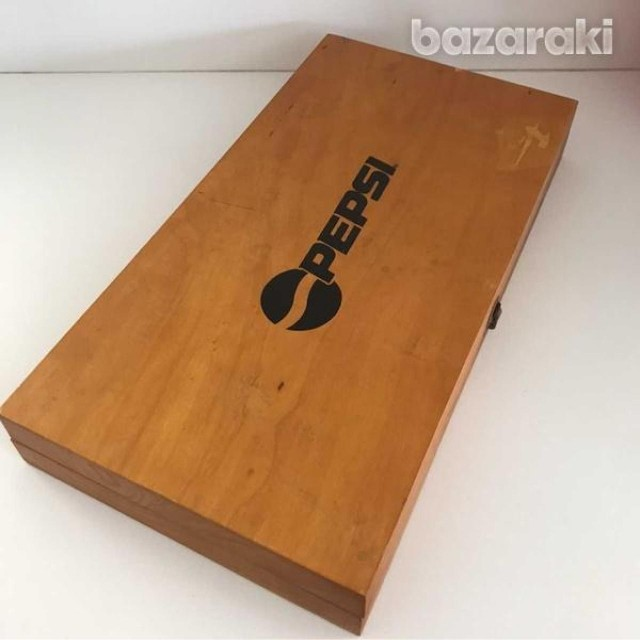pepsi: (253, 147, 401, 337)
